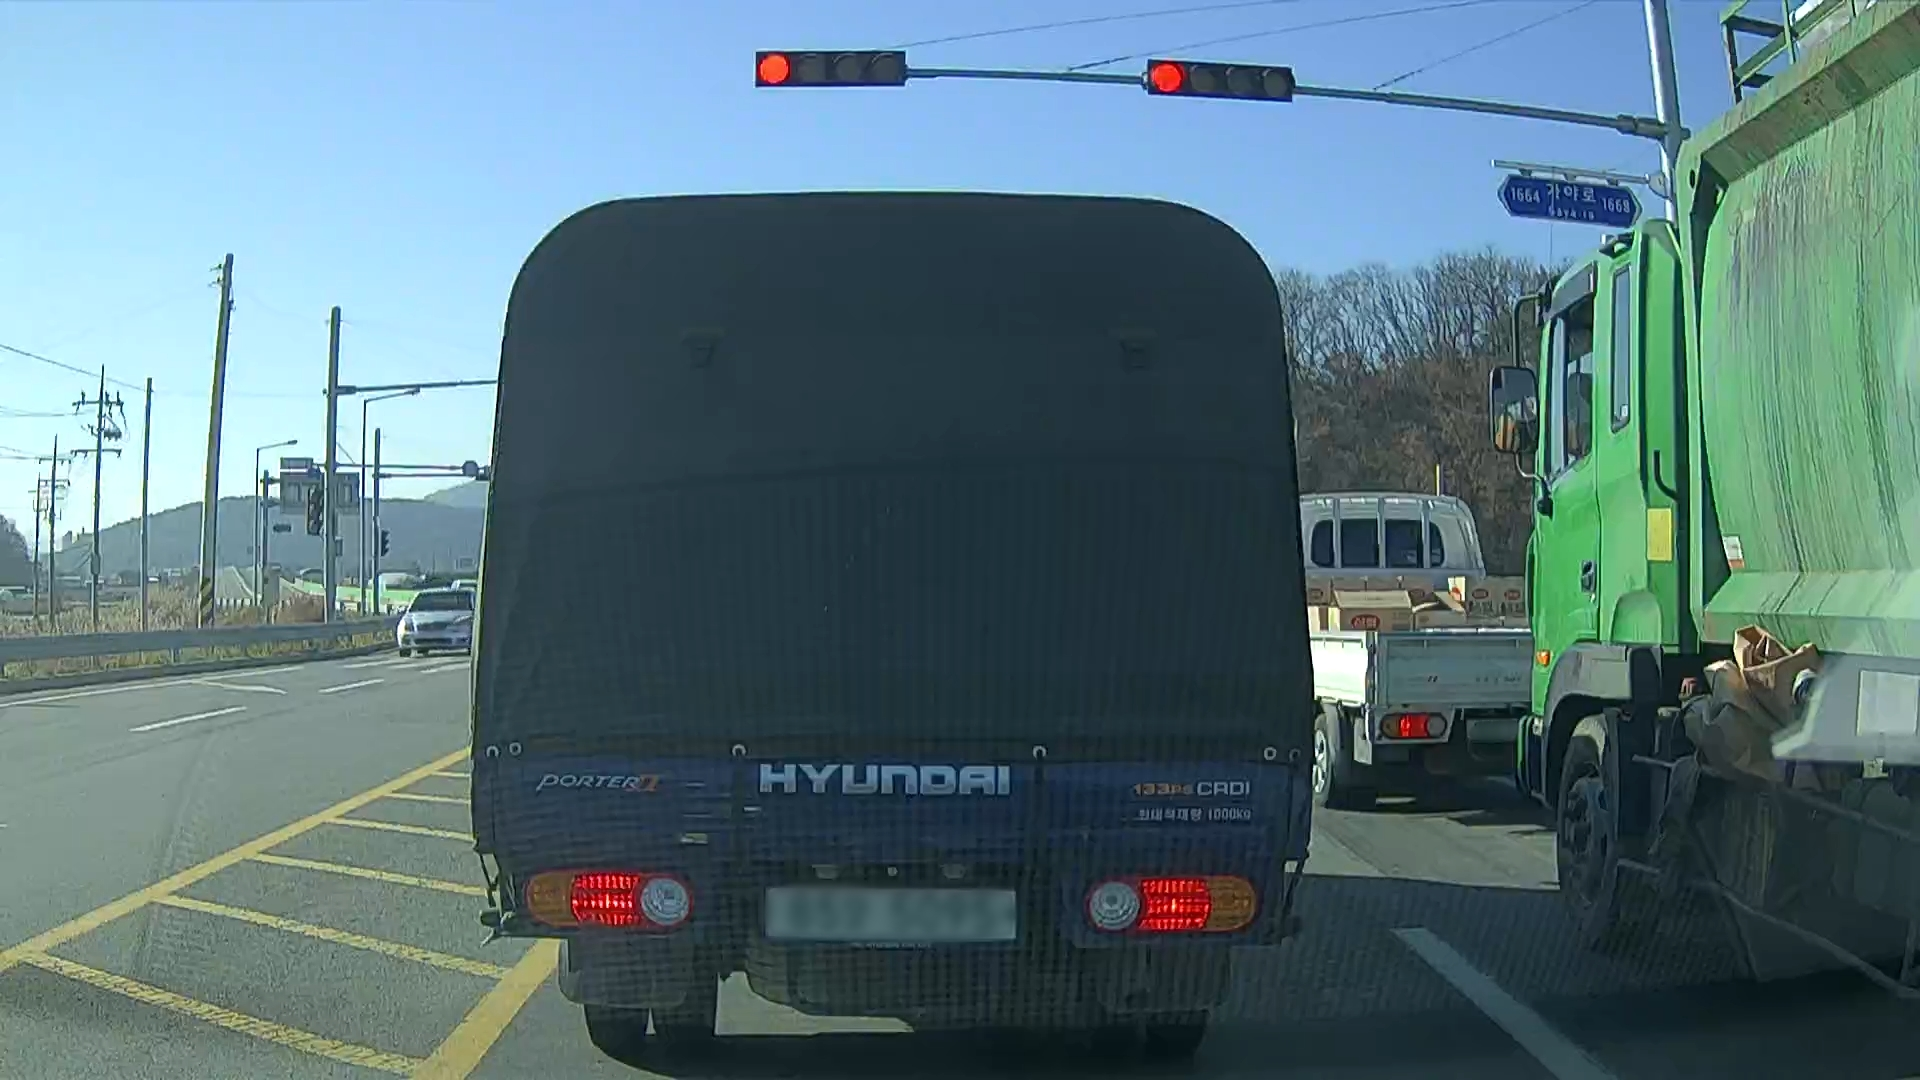trafficLight: (1145, 57, 1296, 109), (752, 47, 906, 88)
